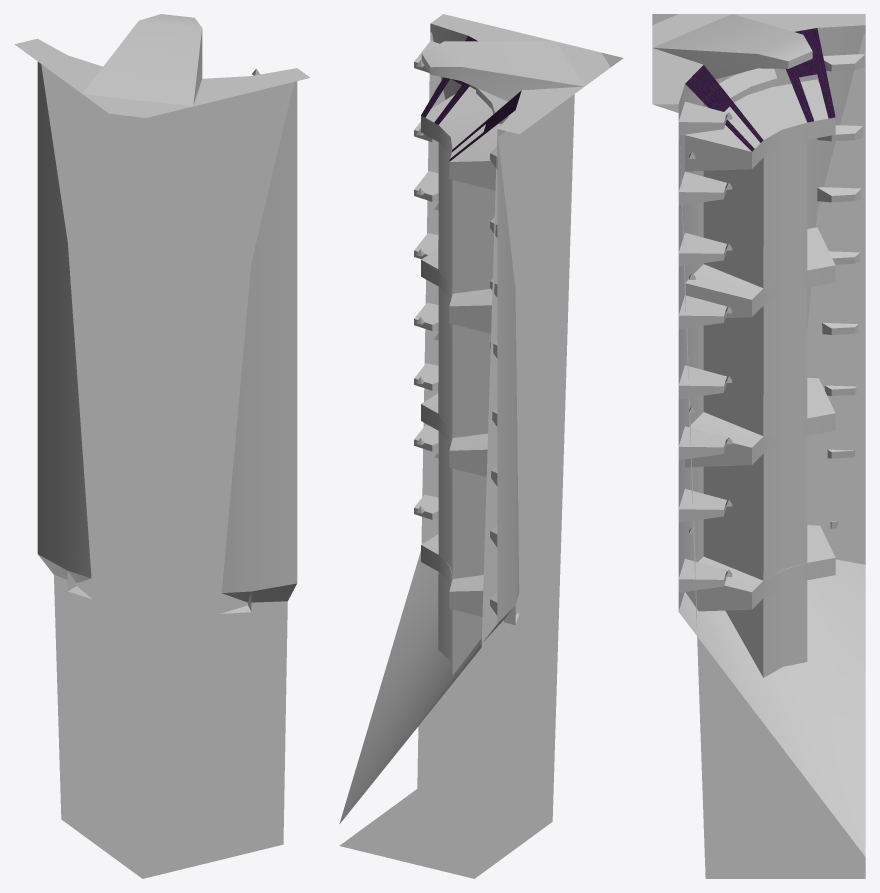
File: debigh03.FBX
3 renders of one model, left to right at view 1: azimuth 30°, elevation 25°; view 2: azimuth 150°, elevation 25°; view 3: azimuth 270°, elevation 25°, orthographic. The views are drawn at different scales.
Parts seen in each view (by area): view 1: terrain__h, shaft, ledges, terrain, cone, debigh01; view 2: terrain__h, shaft, ledges, wedges, cone, terrain, web__2e, debigh01; view 3: shaft, terrain__h, cone, wedges, ledges, terrain, web__2e, debigh01.
Boxes of the visible parts, left/top/right/bottom form: terrain__h: left=41, top=64, right=293, bottom=878; shaft: left=37, top=104, right=297, bottom=592; ledges: left=82, top=14, right=202, bottom=106; terrain: left=15, top=38, right=310, bottom=117; cone: left=38, top=554, right=296, bottom=602; debigh01: left=37, top=62, right=297, bottom=135; terrain__h: left=339, top=32, right=623, bottom=878; shaft: left=438, top=90, right=519, bottom=675; ledges: left=414, top=41, right=584, bottom=615; wedges: left=421, top=86, right=519, bottom=625; cone: left=339, top=551, right=513, bottom=823; terrain: left=431, top=14, right=610, bottom=134; web__2e: left=421, top=36, right=521, bottom=161; debigh01: left=430, top=23, right=505, bottom=190; shaft: left=678, top=90, right=848, bottom=677; terrain__h: left=652, top=14, right=865, bottom=878; cone: left=678, top=559, right=865, bottom=856; wedges: left=685, top=79, right=835, bottom=611; ledges: left=652, top=14, right=864, bottom=592; terrain: left=652, top=14, right=865, bottom=104; web__2e: left=685, top=28, right=835, bottom=151; debigh01: left=678, top=25, right=865, bottom=166.
Size of what is drawn, in the model's own units: 64 by 264 by 64.
